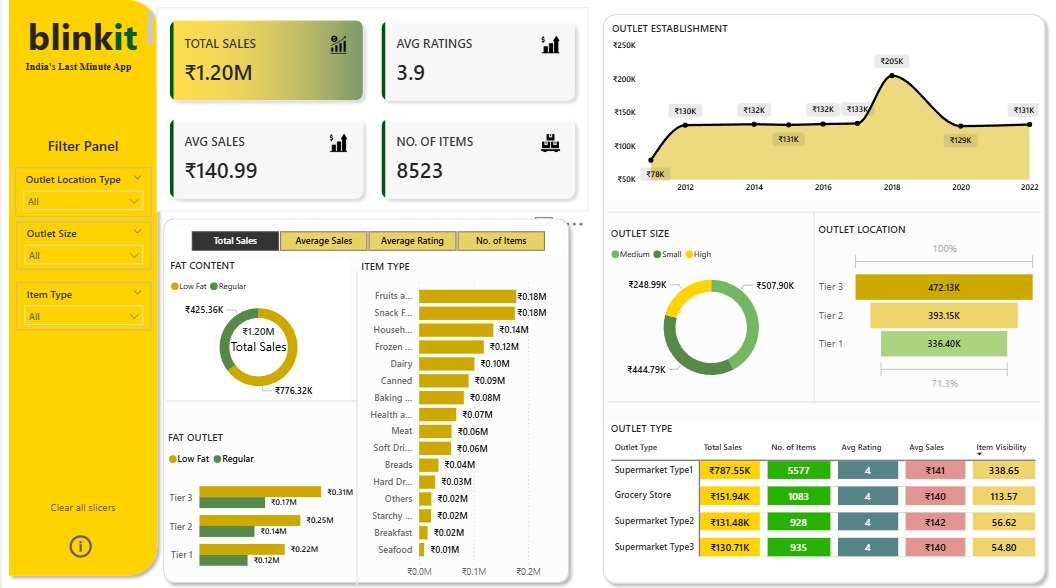

The dashboard page shown, as its layout file describes it:
{"tool":"powerbi","page":{"name":"Page 1","canvas":[1400,800],"ordinal":0},"visuals":[{"type":"shape","box":[0,0,214.6,779.4],"z":0},{"type":"textbox","box":[17.5,19,186.8,62.8],"z":1000},{"type":"textbox","box":[24.8,81.7,153.3,30.7],"z":2000},{"type":"cardVisual","fields":{"Data":["BlinkIT Grocery Data.Total Sales","BlinkIT Grocery Data.Average Rating","BlinkIT Grocery Data.Average Sales","BlinkIT Grocery Data.No. of Items"]},"box":[204.3,19,570.7,270],"z":3000},{"type":"shape","box":[204.3,289,554,500],"z":4000},{"type":"donutChart","title":"FAT CONTENT ","fields":{"Y":["BlinkIT Grocery Data.Total Sales"],"Category":["BlinkIT Grocery Data.Item Fat Content"]},"box":[218.2,350,242.4,190.9],"z":5000},{"type":"slicer","fields":{"Values":["Metric.Metric"]},"box":[224.8,308,516.7,39.4],"z":6000},{"type":"cardVisual","fields":{"Data":["BlinkIT Grocery Data.Total Sales"]},"box":[283.3,419.7,112.1,69.7],"z":7000},{"type":"clusteredBarChart","title":"FAT OUTLET ","fields":{"Y":["BlinkIT Grocery Data.Total Sales"],"Category":["BlinkIT Grocery Data.Outlet Location Type"],"Series":["BlinkIT Grocery Data.Item Fat Content"]},"box":[214.6,578,255.4,201.4],"z":8000},{"type":"shape","box":[217.5,512.3,252.5,54],"z":9000},{"type":"shape","box":[429.1,367.8,80.3,432],"z":10000},{"type":"barChart","title":"ITEM TYPE","fields":{"Y":["BlinkIT Grocery Data.Total Sales"],"Category":["BlinkIT Grocery Data.Item Type"]},"box":[470,351.8,271.5,430.6],"z":11000},{"type":"shape","box":[785.3,19,602.8,770.7],"z":12000},{"type":"lineChart","title":"OUTLET ESTABLISHMENT ","fields":{"Y":["BlinkIT Grocery Data.Total Sales"],"Category":["BlinkIT Grocery Data.Outlet Establishment Year"]},"box":[801.3,36.5,573.6,237.9],"z":13000},{"type":"shape","box":[799.9,262.7,573.6,54],"z":14000},{"type":"donutChart","title":"OUTLET SIZE ","fields":{"Y":["BlinkIT Grocery Data.Total Sales"],"Category":["BlinkIT Grocery Data.Outlet Size"]},"box":[799.9,308,274.4,223.3],"z":15000},{"type":"shape","box":[1033.4,290.5,80.3,251.1],"z":16000},{"type":"funnel","title":"OUTLET LOCATION","fields":{"Y":["Sum(BlinkIT Grocery Data.Sales)"],"Category":["BlinkIT Grocery Data.Outlet Location Type"]},"box":[1074.3,302.1,297.8,229.2],"z":17000},{"type":"shape","box":[799.9,513.8,572.2,54],"z":18000},{"type":"pivotTable","title":"OUTLET TYPE ","fields":{"Rows":["BlinkIT Grocery Data.Outlet Type"],"Values":["BlinkIT Grocery Data.Total Sales","BlinkIT Grocery Data.No. of Items","BlinkIT Grocery Data.Average Rating","BlinkIT Grocery Data.Average Sales","Sum(BlinkIT Grocery Data.Item Visibility)"]},"box":[799.9,566.3,573.6,204.3],"z":19000},{"type":"slicer","fields":{"Values":["BlinkIT Grocery Data.Outlet Location Type"]},"box":[18.2,230.3,180.3,65.2],"z":20000},{"type":"slicer","fields":{"Values":["BlinkIT Grocery Data.Outlet Size"]},"box":[19.7,301.5,178.8,63.6],"z":21000},{"type":"slicer","fields":{"Values":["BlinkIT Grocery Data.Item Type"]},"box":[19.7,381.8,178.8,63.6],"z":22000},{"type":"textbox","box":[56.1,183.3,104.5,34.8],"z":23000},{"type":"actionButton","box":[56.1,654.5,103,50],"z":24000},{"type":"actionButton","box":[84.8,712.1,50,39.4],"z":25000}]}

Visuals, with their boxes in screenshot pixels (x1, y1, x2, y2), scaled from the page's 1400x800 canvas onto the 1056x588 screenshot:
shape: Rect(0, 0, 162, 573)
textbox: Rect(13, 14, 154, 60)
textbox: Rect(19, 60, 134, 83)
cardVisual - BlinkIT Grocery Data.Total Sales x BlinkIT Grocery Data.Average Rating: Rect(154, 14, 585, 212)
shape: Rect(154, 212, 572, 580)
"FAT CONTENT " donutChart: Rect(165, 257, 347, 398)
slicer - Metric.Metric: Rect(170, 226, 559, 255)
cardVisual - BlinkIT Grocery Data.Total Sales: Rect(214, 308, 298, 360)
"FAT OUTLET " clusteredBarChart: Rect(162, 425, 355, 573)
shape: Rect(164, 377, 355, 416)
shape: Rect(324, 270, 384, 587)
"ITEM TYPE" barChart: Rect(355, 259, 559, 575)
shape: Rect(592, 14, 1047, 580)
"OUTLET ESTABLISHMENT " lineChart: Rect(604, 27, 1037, 202)
shape: Rect(603, 193, 1036, 233)
"OUTLET SIZE " donutChart: Rect(603, 226, 810, 391)
shape: Rect(779, 214, 840, 398)
"OUTLET LOCATION" funnel: Rect(810, 222, 1035, 391)
shape: Rect(603, 378, 1035, 417)
"OUTLET TYPE " pivotTable: Rect(603, 416, 1036, 566)
slicer - BlinkIT Grocery Data.Outlet Location Type: Rect(14, 169, 150, 217)
slicer - BlinkIT Grocery Data.Outlet Size: Rect(15, 222, 150, 268)
slicer - BlinkIT Grocery Data.Item Type: Rect(15, 281, 150, 327)
textbox: Rect(42, 135, 121, 160)
actionButton: Rect(42, 481, 120, 518)
actionButton: Rect(64, 523, 102, 552)
